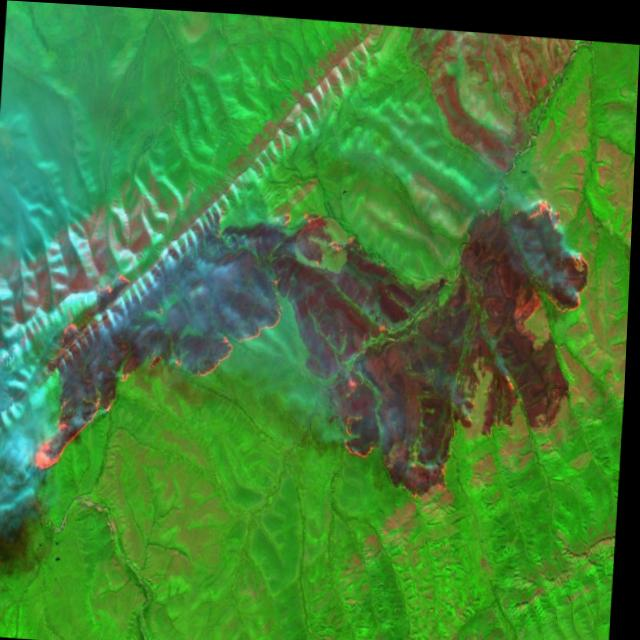fire: (32, 146, 600, 512)
